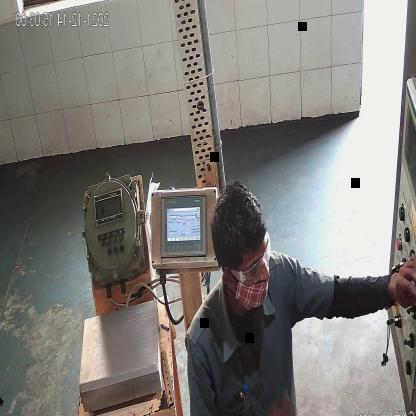goggles: (230, 244, 274, 288)
